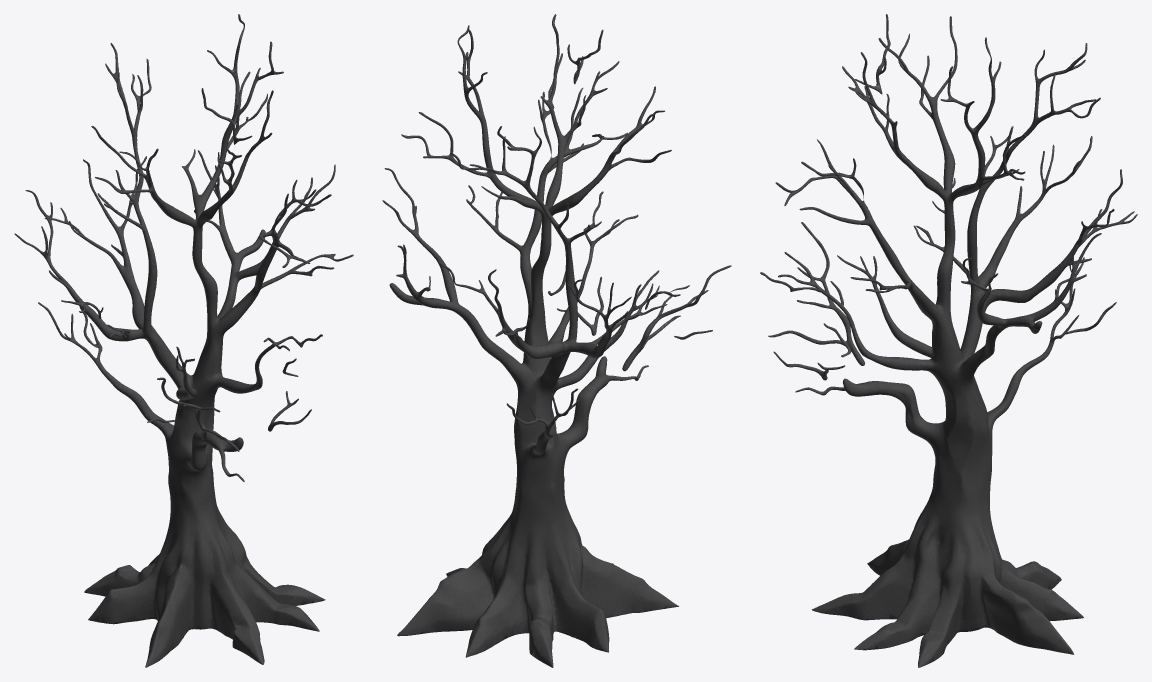
Rendered from cerrado_morto.glb.
3 renders of one model, left to right at view 1: azimuth 30°, elevation 25°; view 2: azimuth 150°, elevation 25°; view 3: azimuth 270°, elevation 25°, orthographic. The views are drawn at different scales.
Size of the model in its own units: 0.974 by 1.9 by 1.08.
1 material, 1 textured.
